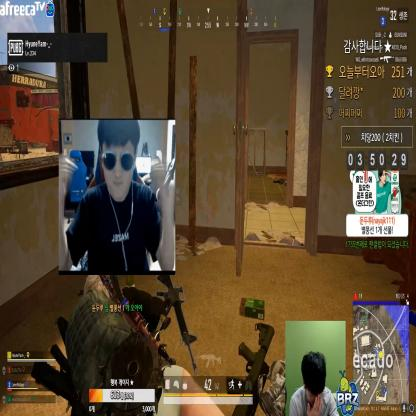donation: (58, 118, 177, 315), (346, 170, 409, 249)
streamer: (289, 350, 340, 416)
